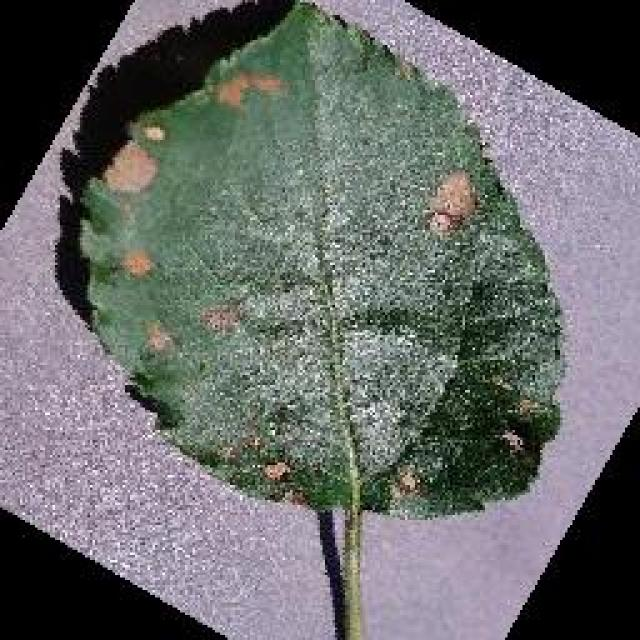apple black rot: (52, 0, 568, 520)
